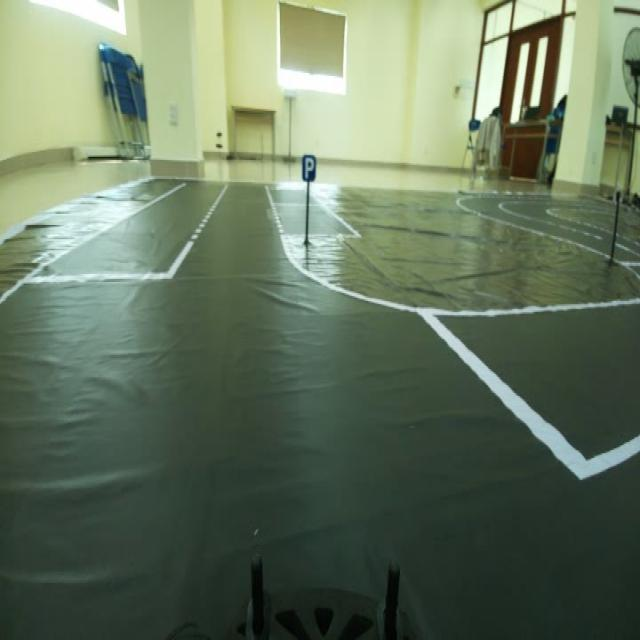parking: (294, 149, 318, 185)
